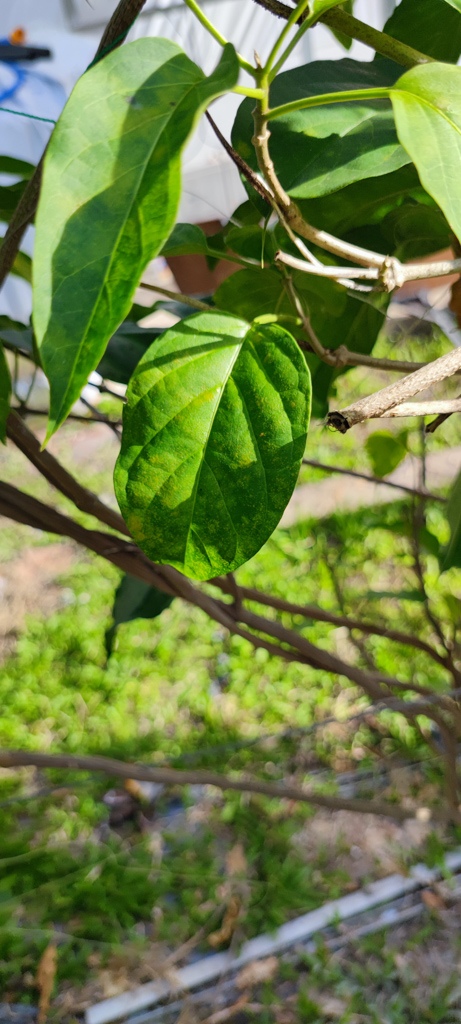Pepper yellow leaf: (118, 341, 300, 582)
